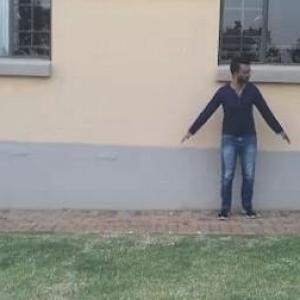land: (170, 49, 284, 239)
